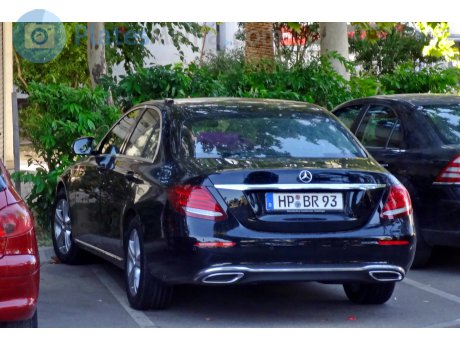License Plates: (271, 194, 341, 204)
